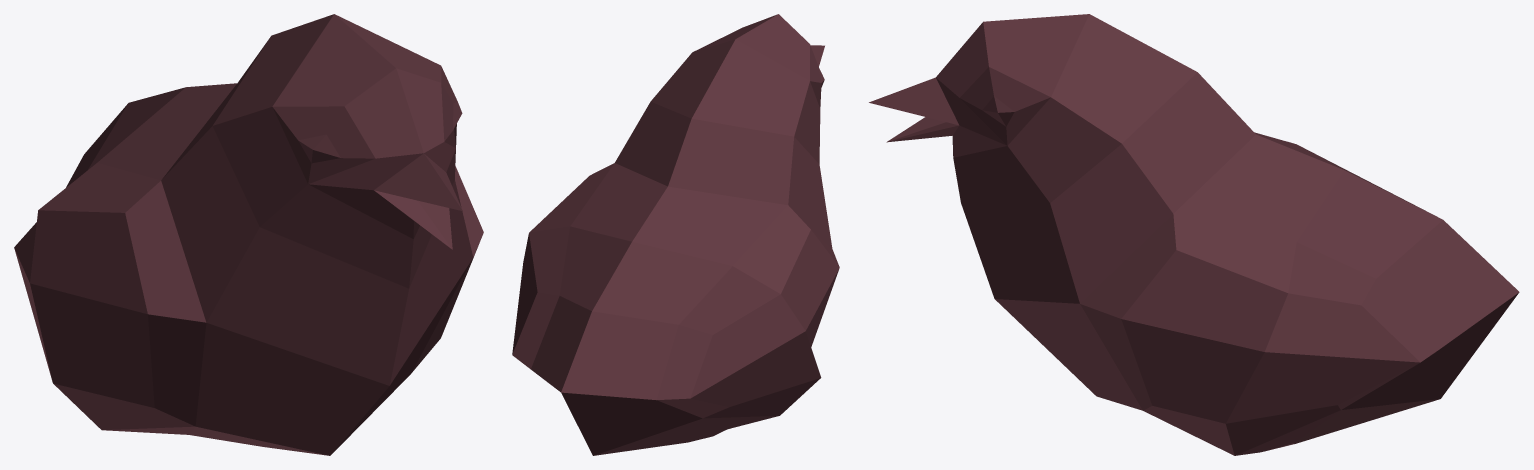
The model's file is chick.fbx.
3 renders of one model, left to right at view 1: azimuth 30°, elevation 25°; view 2: azimuth 150°, elevation 25°; view 3: azimuth 270°, elevation 25°, orthographic. The views are drawn at different scales.
Visible parts, largest first — view 1: chick; view 2: chick; view 3: chick.
Part boxes in pixels (<box>): chick: <box>14,14,483,455</box>; chick: <box>512,14,839,455</box>; chick: <box>869,14,1519,455</box>.
Bounding box in the file's own units: 529 × 605 × 857.
